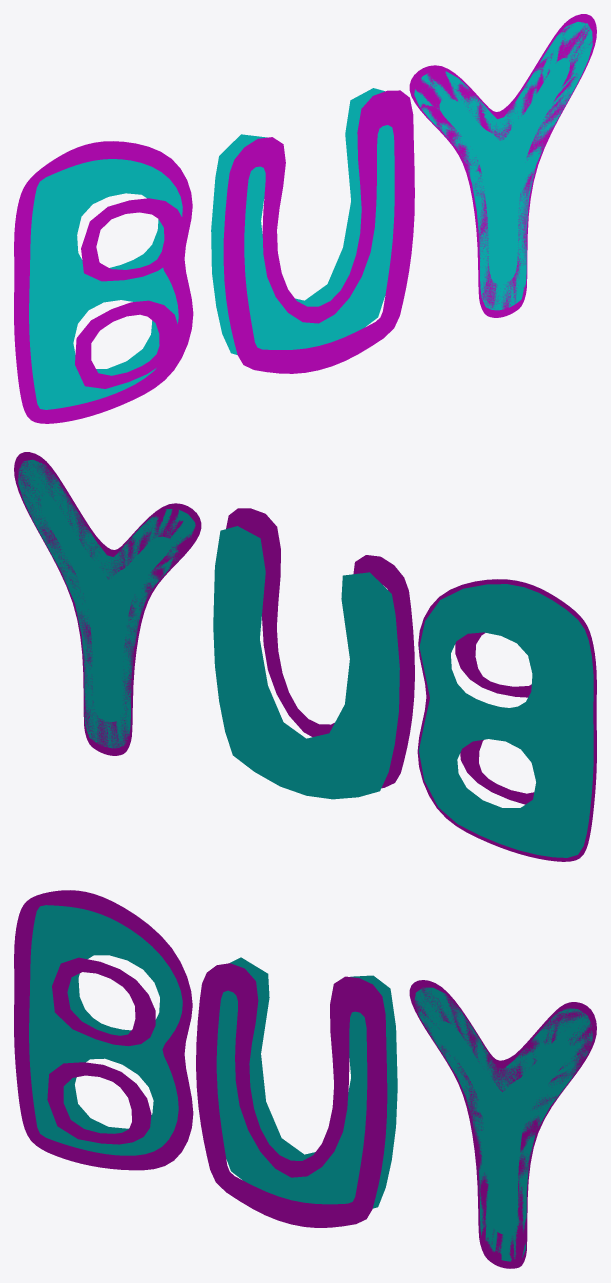
File: mesh_text_buy.fbx
The picture shows the model from 3 angles, top to bottom: view 1: azimuth 30°, elevation 25°; view 2: azimuth 150°, elevation 25°; view 3: azimuth 330°, elevation 25°; orthographic projection.
Visible parts, largest first — view 1: mesh_text_buy, mesh_text_buy1; view 2: mesh_text_buy, mesh_text_buy1; view 3: mesh_text_buy, mesh_text_buy1.
Part boxes in pixels (x1,y1,x2,y2): mesh_text_buy: [29, 21, 592, 409]; mesh_text_buy1: [14, 14, 596, 423]; mesh_text_buy: [18, 459, 593, 857]; mesh_text_buy1: [14, 452, 596, 861]; mesh_text_buy: [29, 905, 592, 1261]; mesh_text_buy1: [14, 890, 596, 1268].
Size of the model in its own units: 0.0518 by 0.0241 by 0.00234.
